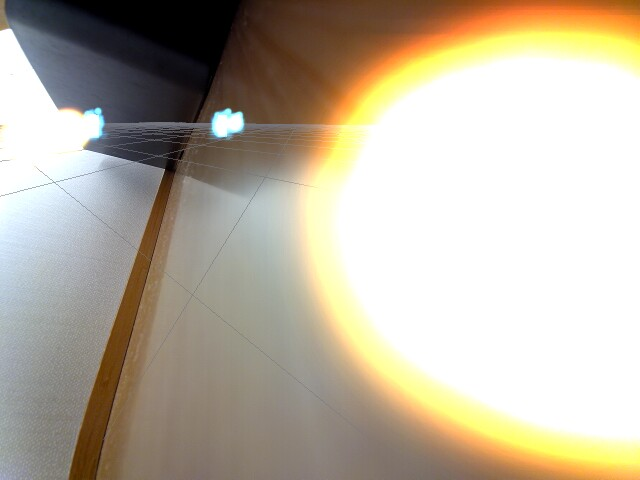fire: (279, 11, 634, 471)
